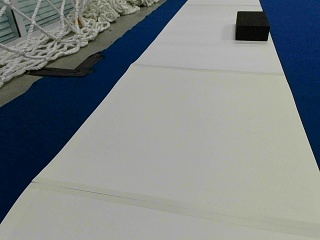block: (235, 12, 270, 41)
